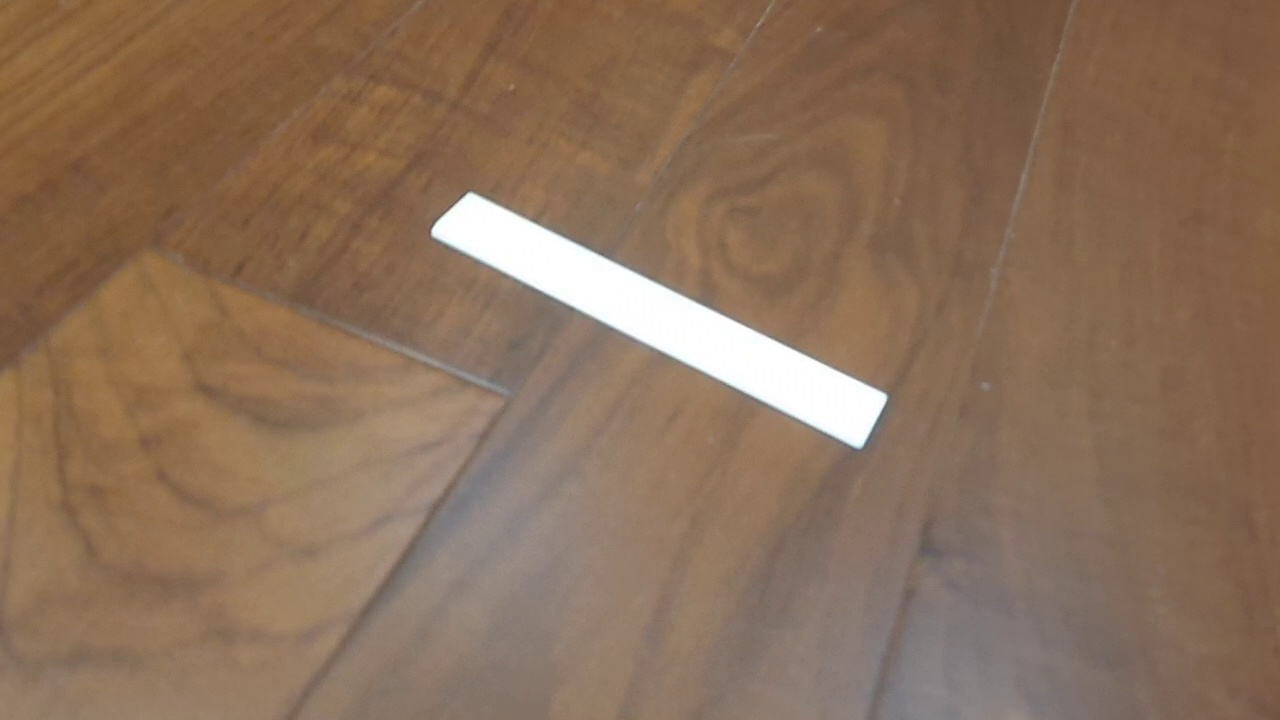ruler: (428, 189, 889, 452)
